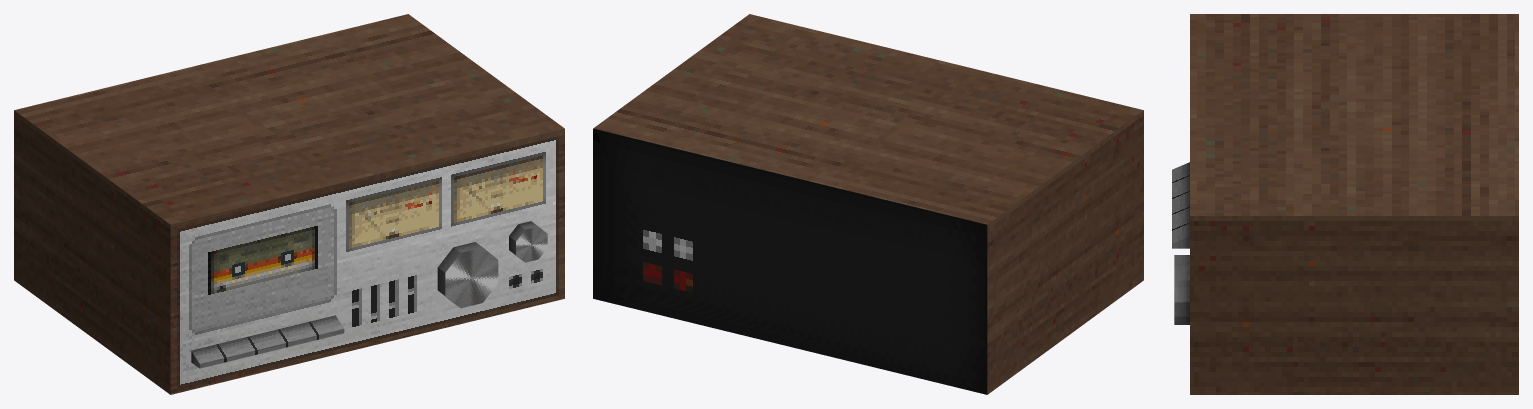
Rendered from vintage_cassete_deck.glb.
3 renders of one model, left to right at view 1: azimuth 30°, elevation 25°; view 2: azimuth 150°, elevation 25°; view 3: azimuth 270°, elevation 25°, orthographic. The views are drawn at different scales.
Visible parts, largest first — view 1: Tape Deck; view 2: Tape Deck; view 3: Tape Deck.
Boxes of the visible parts, bbox=[...] form: Tape Deck: bbox=[14, 14, 564, 394]; Tape Deck: bbox=[593, 14, 1143, 394]; Tape Deck: bbox=[1172, 14, 1518, 394].
Bounding box in the file's own units: 0.3636 × 0.15 × 0.2636.
1 material, 1 textured.
